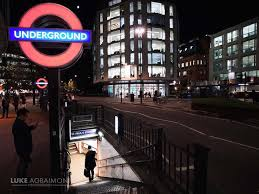London Underground: (5, 4, 91, 63), (33, 75, 49, 89)
